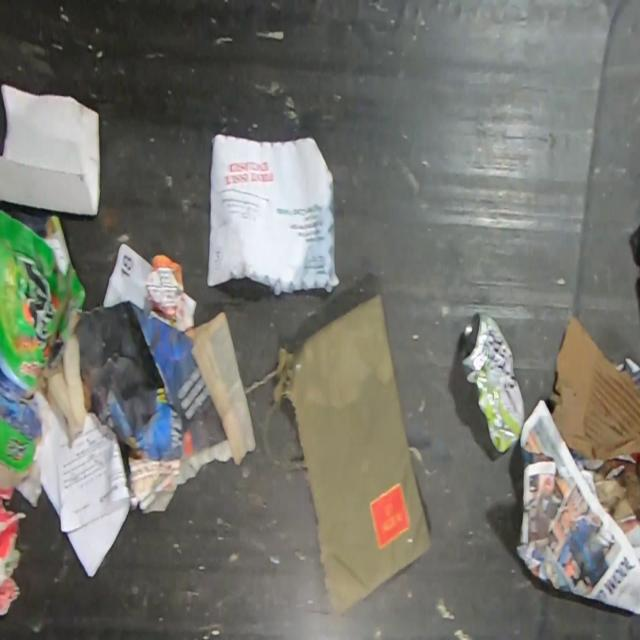cardboard: (0, 207, 88, 503), (544, 314, 640, 463)
metal: (460, 311, 525, 454)
soft_plastic: (270, 293, 432, 611)
